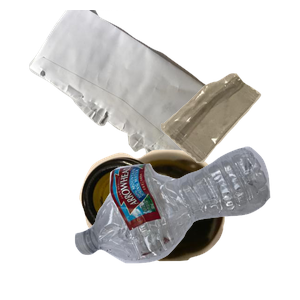glass: (77, 147, 295, 300)
paper: (27, 10, 252, 187)
plastic: (72, 144, 300, 300)
trash: (158, 71, 300, 227)
